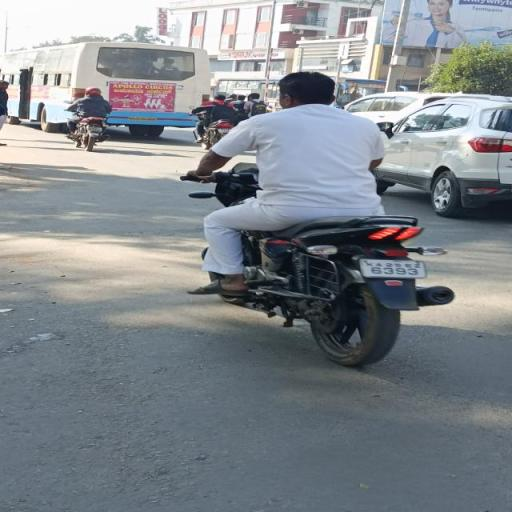bike: (173, 64, 460, 370)
numberplate: (361, 258, 426, 280)
withouthelmet: (280, 73, 333, 106)
